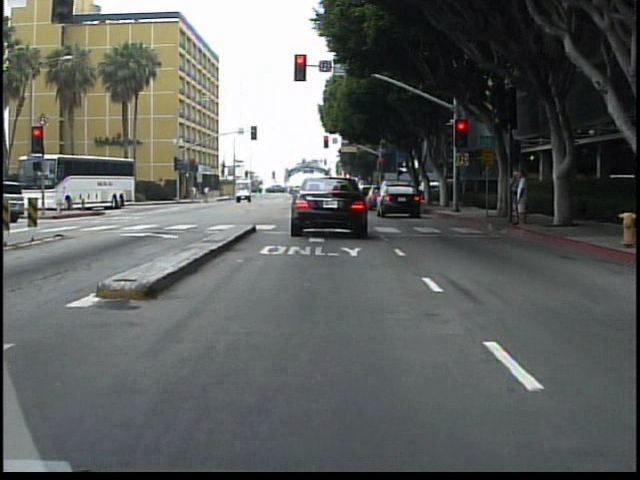person: (511, 169, 531, 231)
